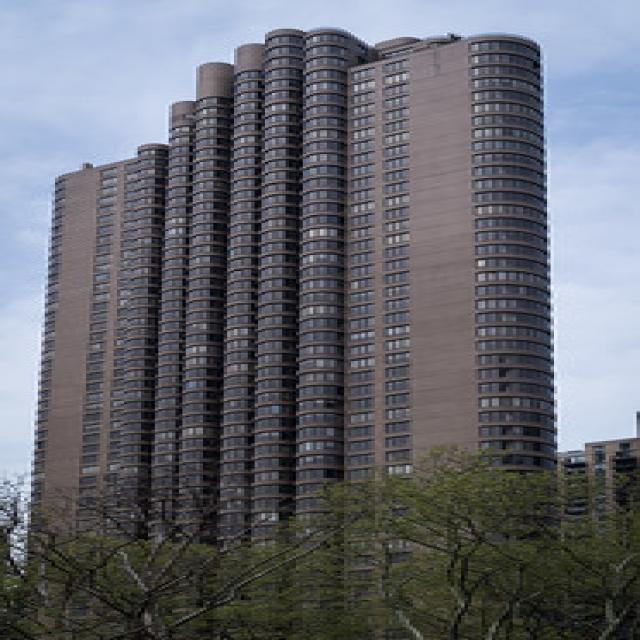Normal_building: (14, 23, 568, 633)
